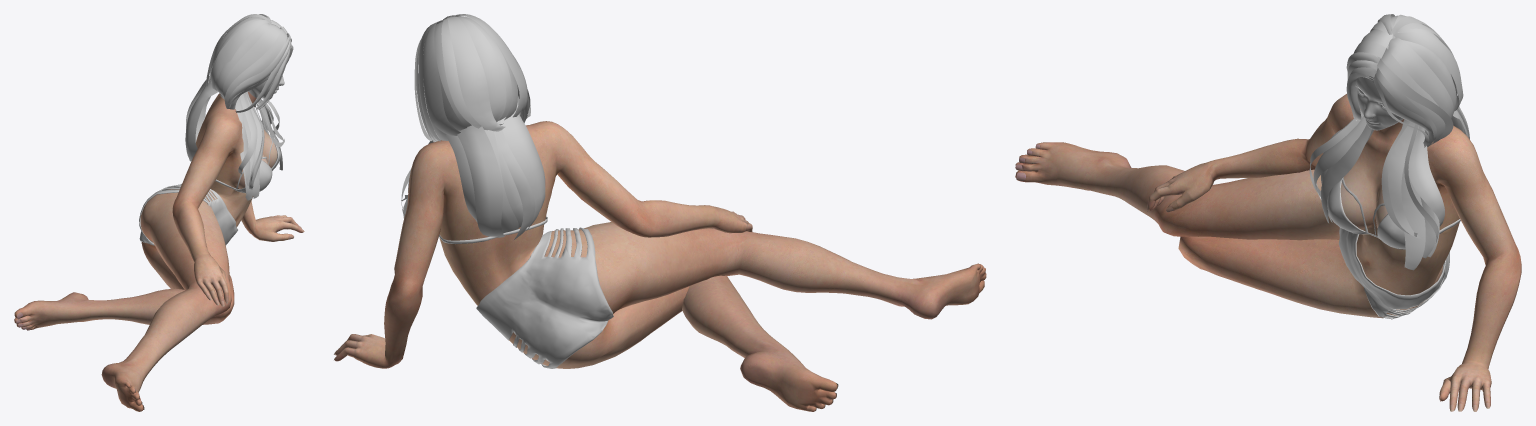
The model's file is Athena.fbx.
3 renders of one model, left to right at view 1: azimuth 30°, elevation 25°; view 2: azimuth 150°, elevation 25°; view 3: azimuth 270°, elevation 25°, orthographic. The views are drawn at different scales.
Visible parts, largest first — view 1: Model001_24_body_0.9_1_1, Model002_25_+hair.hair_1_0_0, Model002_25_+hair-bf.hair-bf_1_0_0, Model001_24_shorts_0.4_1_1, Model001_24_bikini!2nPart!_0.3_1_1.001; view 2: Model001_24_body_0.9_1_1, Model002_25_+hair.hair_1_0_0, Model001_24_shorts_0.4_1_1, Model002_25_+hair-bf.hair-bf_1_0_0; view 3: Model001_24_body_0.9_1_1, Model002_25_+hair.hair_1_0_0, Model002_25_+hair-bf.hair-bf_1_0_0, Model001_24_shorts_0.4_1_1, Model001_24_bikini!2nPart!_0.3_1_1.001, Model001_24_Face_0.9_1_1.
Boxes of the visible parts, box(x1,y1,x2,y2) form: Model001_24_body_0.9_1_1: box(14, 92, 304, 411); Model002_25_+hair.hair_1_0_0: box(185, 14, 293, 200); Model002_25_+hair-bf.hair-bf_1_0_0: box(185, 14, 291, 200); Model001_24_shorts_0.4_1_1: box(139, 184, 237, 245); Model001_24_bikini!2nPart!_0.3_1_1.001: box(215, 94, 281, 193); Model001_24_body_0.9_1_1: box(334, 121, 986, 411); Model002_25_+hair.hair_1_0_0: box(401, 14, 545, 239); Model001_24_shorts_0.4_1_1: box(476, 227, 613, 368); Model002_25_+hair-bf.hair-bf_1_0_0: box(402, 14, 545, 238); Model001_24_body_0.9_1_1: box(1015, 94, 1521, 411); Model002_25_+hair.hair_1_0_0: box(1309, 14, 1469, 270); Model002_25_+hair-bf.hair-bf_1_0_0: box(1310, 14, 1469, 269); Model001_24_shorts_0.4_1_1: box(1338, 227, 1449, 319); Model001_24_bikini!2nPart!_0.3_1_1.001: box(1327, 177, 1460, 249); Model001_24_Face_0.9_1_1: box(1356, 23, 1422, 130).
Bounding box in the file's own units: 110 × 78.92 × 104.
